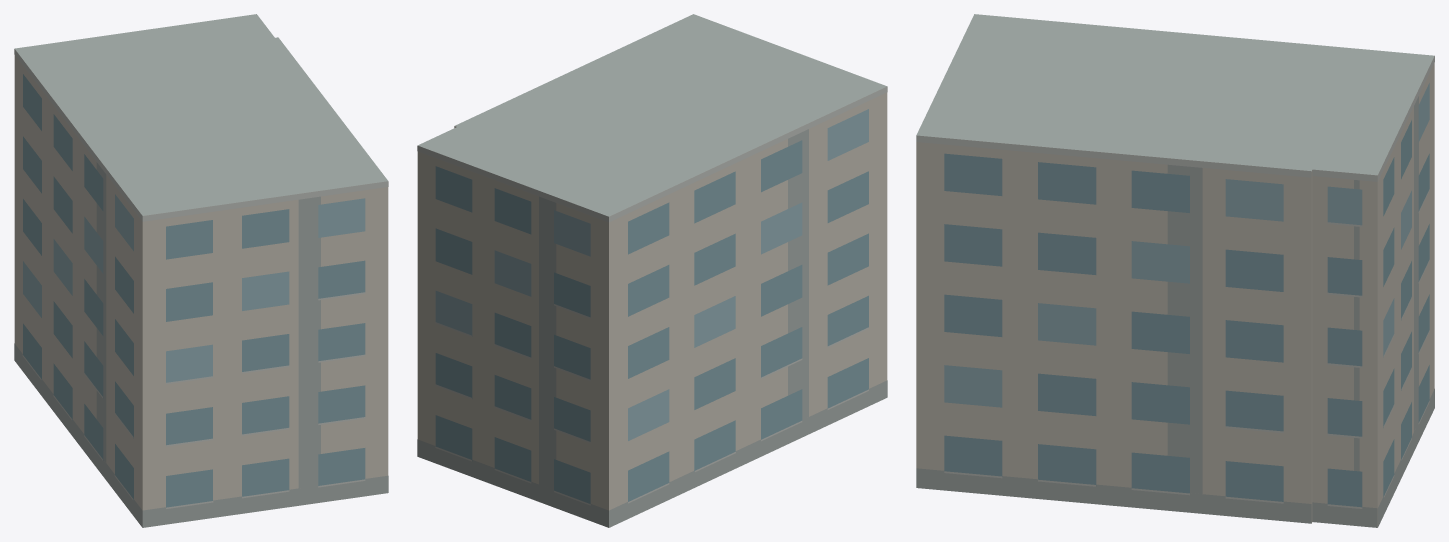
File: survey-upis-32885877.glb
The picture shows the model from 3 angles, left to right: view 1: azimuth 30°, elevation 25°; view 2: azimuth 150°, elevation 25°; view 3: azimuth 270°, elevation 25°; orthographic projection. The views are drawn at different scales.
Visible parts, largest first — view 1: survey-upis-32885877.tmp; view 2: survey-upis-32885877.tmp; view 3: survey-upis-32885877.tmp.
Part boxes in pixels (x1,y1,x2,y2): survey-upis-32885877.tmp: (14, 14, 388, 527); survey-upis-32885877.tmp: (417, 14, 887, 527); survey-upis-32885877.tmp: (916, 14, 1434, 527).
Bounding box in the file's own units: 12.87 × 13.1 × 17.47.
